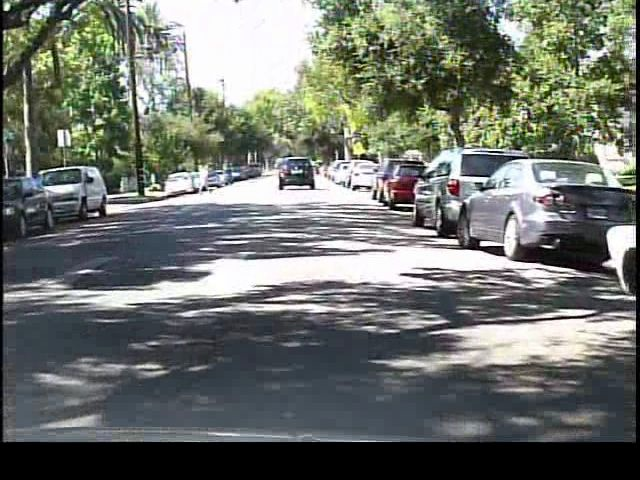person: (194, 159, 213, 198)
